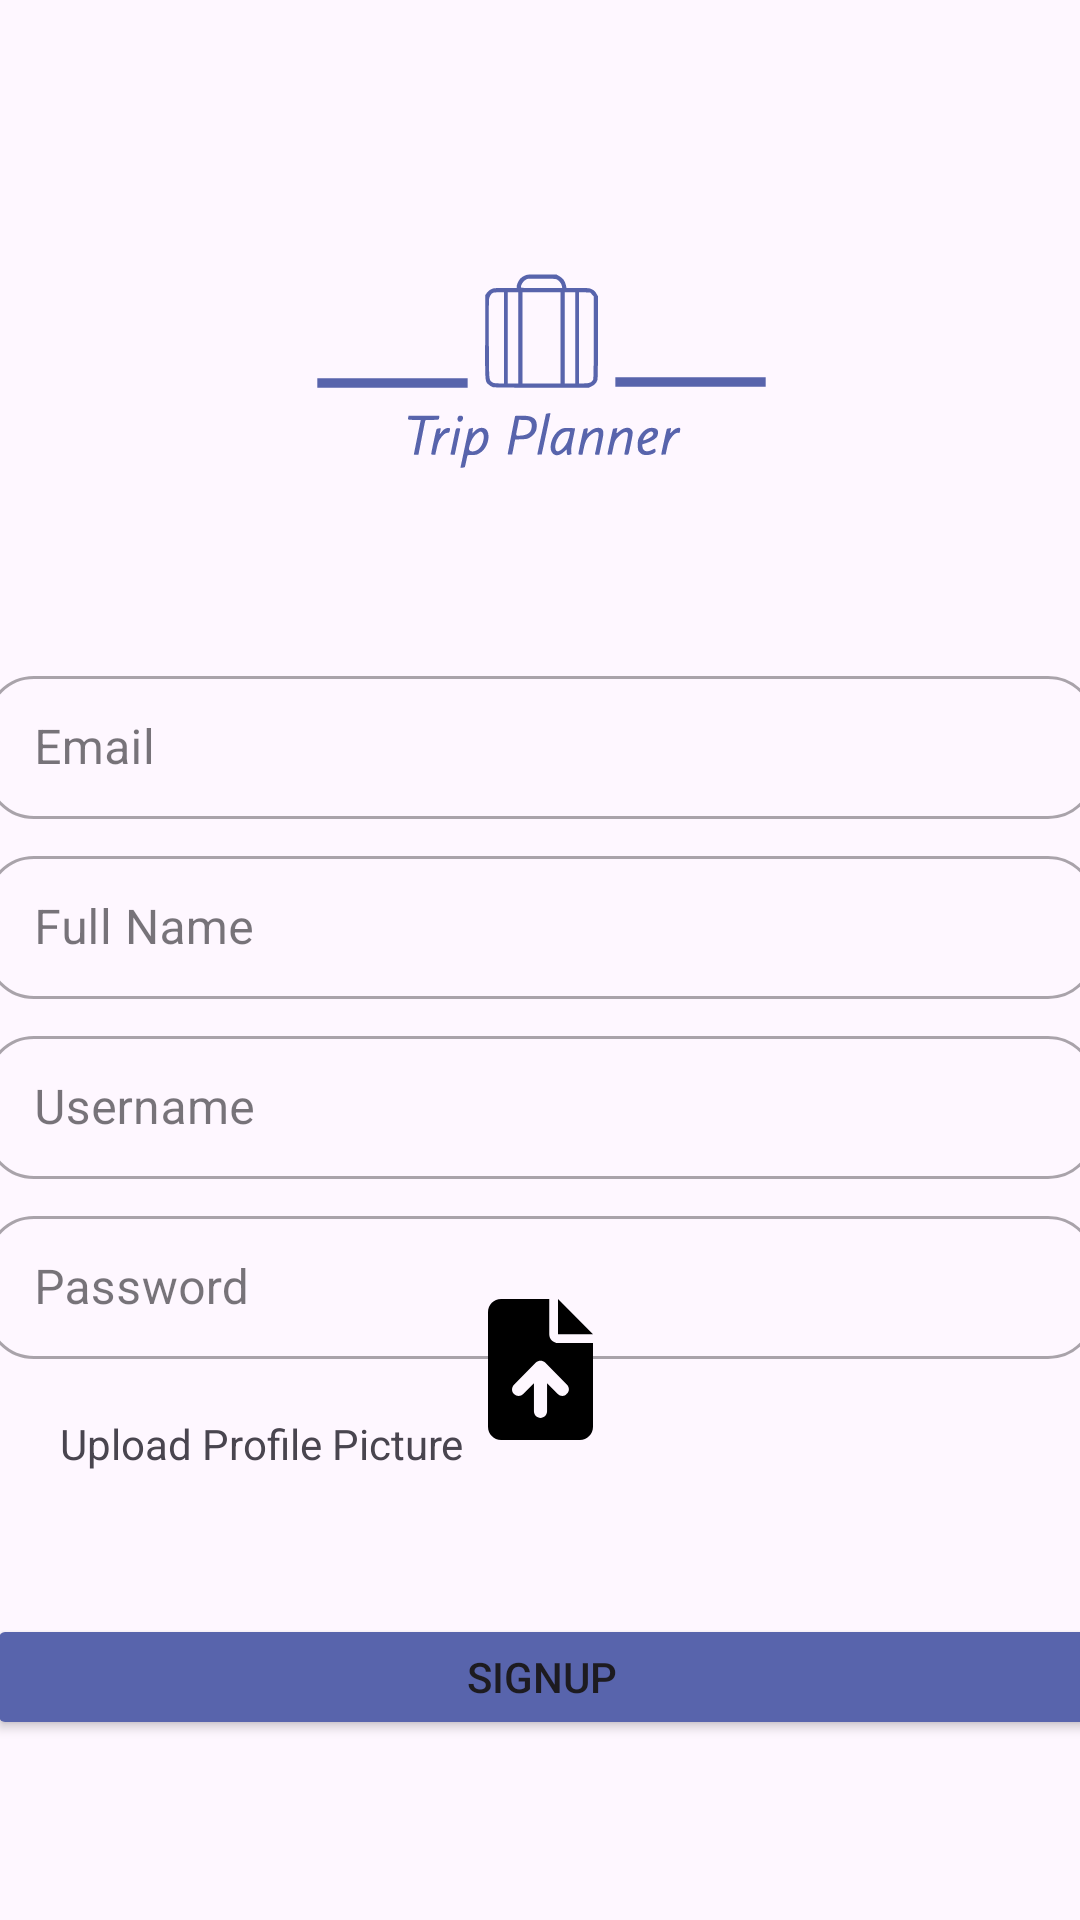

Icon click points for this 1080*1920 phone screenshot, format (x=x, y=y):
file arrow up: (x=540, y=1369)
